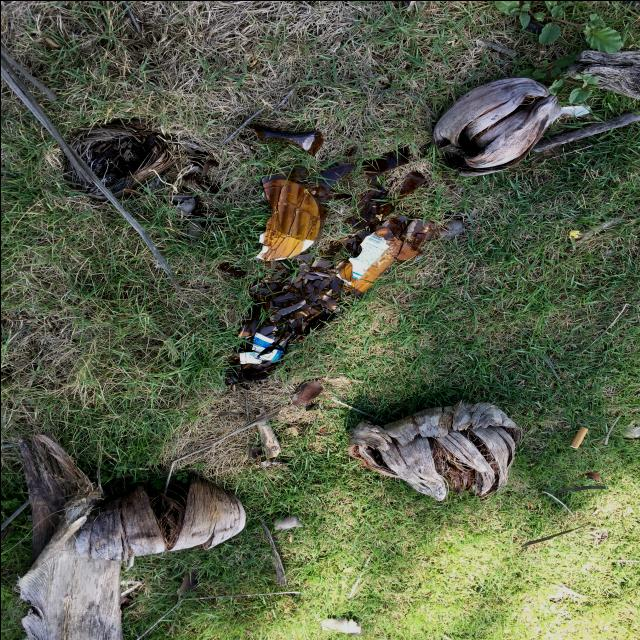Broken glass: (222, 145, 436, 382), (251, 123, 323, 156), (395, 170, 426, 205)
Cigarette: (569, 425, 588, 448)
